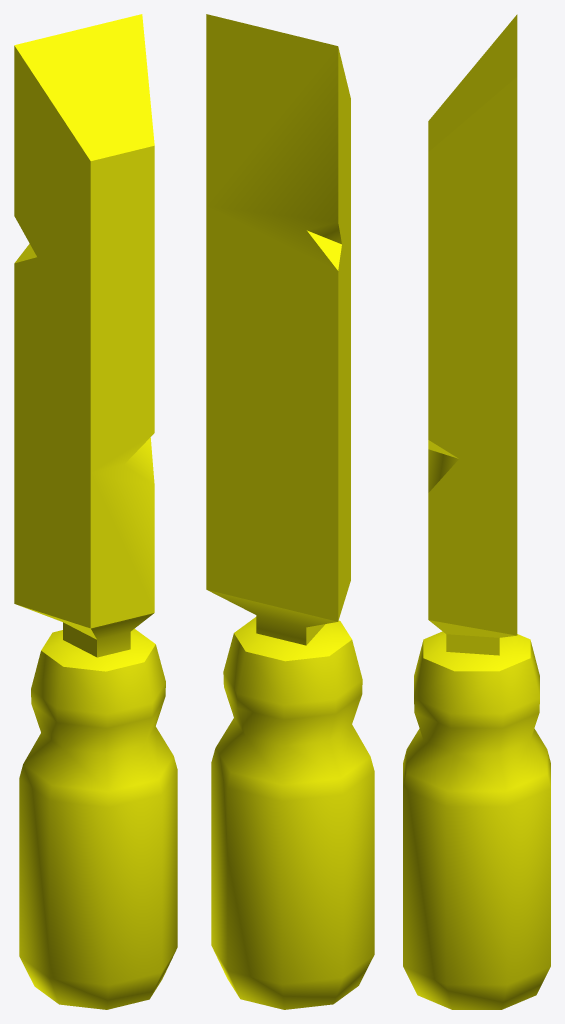
The model's file is kaykit-chisel.glb.
3 renders of one model, left to right at view 1: azimuth 30°, elevation 25°; view 2: azimuth 150°, elevation 25°; view 3: azimuth 270°, elevation 25°, orthographic. The views are drawn at different scales.
Visible parts, largest first — view 1: chisel; view 2: chisel; view 3: chisel.
Boxes of the visible parts, x1,y1,x2,y2 form: chisel: (14, 14, 177, 1009); chisel: (206, 14, 374, 1009); chisel: (403, 14, 550, 1009).
Bounding box in the file's own units: 0.1514 × 1.08 × 0.1512.
